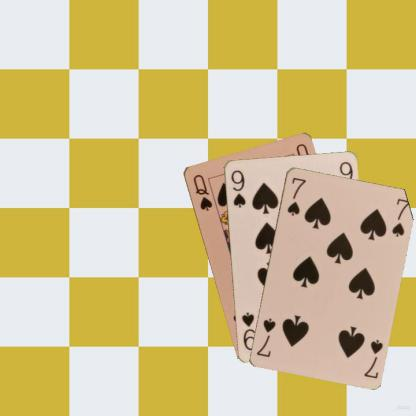7s: (284, 174, 308, 218), (361, 336, 384, 380)
9s: (228, 167, 247, 209)
Qs: (190, 172, 213, 212)
